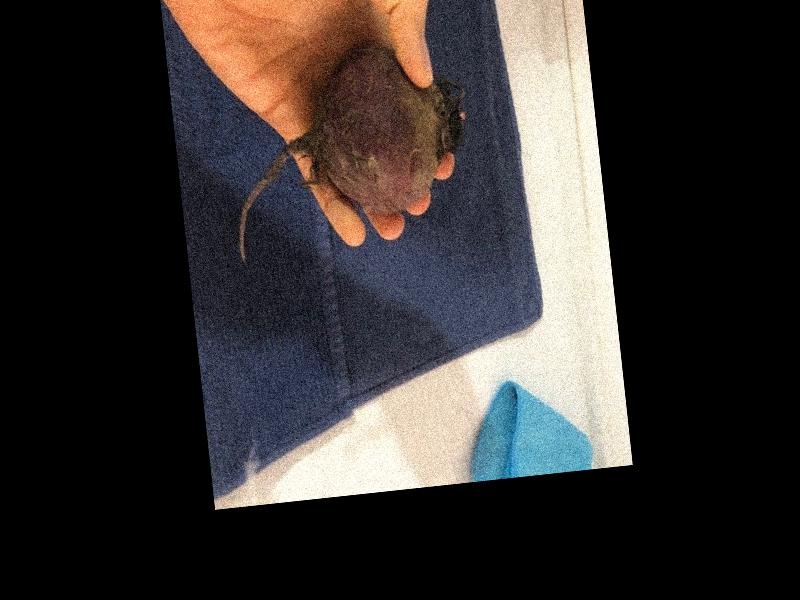Beet: (219, 34, 478, 266)
